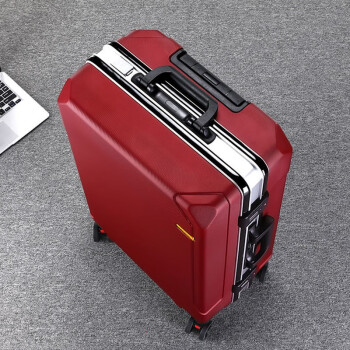box: (56, 30, 292, 324)
handle: (131, 64, 219, 144)
lock: (238, 194, 269, 227)
wheel: (185, 315, 214, 341), (93, 221, 115, 244)
